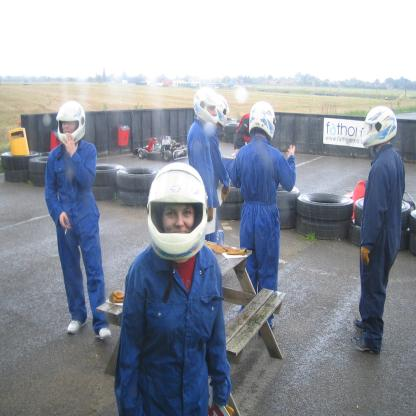Helmet: (144, 166, 210, 264), (363, 104, 399, 151), (54, 99, 88, 147), (249, 98, 279, 141), (192, 82, 219, 126), (217, 95, 227, 130)
